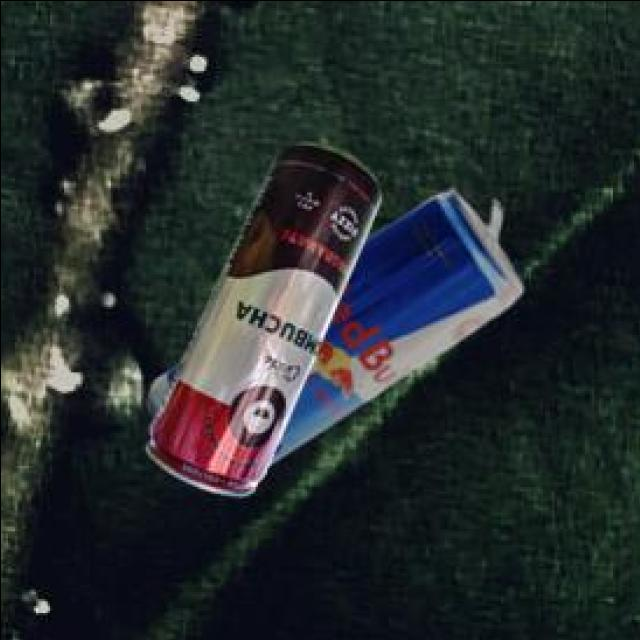logam: (148, 190, 524, 466), (151, 146, 384, 499)
